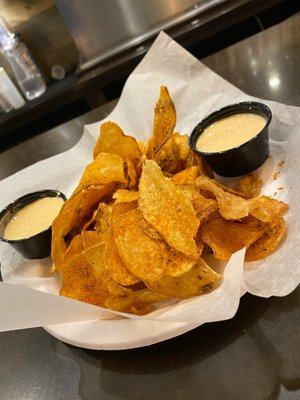sushi: (189, 102, 272, 179)
